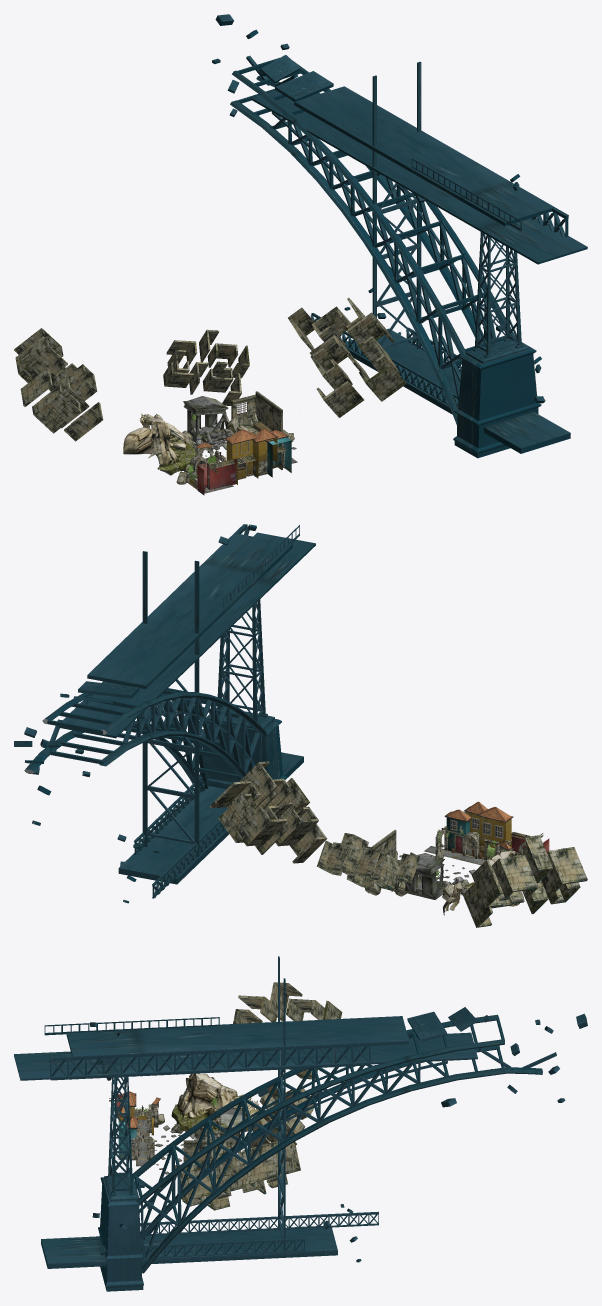
The model's file is SC05_A_LAB_v16.fbx.
The picture shows the model from 3 angles, top to bottom: view 1: azimuth 30°, elevation 25°; view 2: azimuth 150°, elevation 25°; view 3: azimuth 270°, elevation 25°; orthographic projection. The views are drawn at different scales.
Parts seen in each view (by area): view 1: Cube.078, Cube.081, Cube.082, Cube.077, Cave Rock Mountain2.001, Plane.024, Plane.027, Plane.012, Plane.002, Cube.234; view 2: Cube.078, Cube.081, Cube.082, Cube.077, Plane.012, Cave Rock Mountain2.001; view 3: Cube.078, Cube.081, Cube.082, Cave Rock Mountain2.001, Cube.077.
Boxes of the visible parts, x1,y1,x2,y2 form: Cube.078: [212, 14, 587, 458]; Cube.081: [288, 297, 406, 417]; Cube.082: [14, 328, 103, 441]; Cube.077: [163, 329, 249, 405]; Cave Rock Mountain2.001: [123, 413, 196, 475]; Plane.024: [197, 458, 237, 495]; Plane.027: [255, 391, 282, 431]; Plane.012: [226, 440, 258, 479]; Plane.002: [267, 437, 291, 477]; Cube.234: [183, 396, 228, 414]; Cube.078: [14, 524, 315, 903]; Cube.081: [209, 761, 327, 863]; Cube.082: [463, 835, 587, 927]; Cube.077: [316, 833, 420, 889]; Plane.012: [479, 816, 511, 857]; Cave Rock Mountain2.001: [442, 851, 521, 915]; Cube.078: [14, 956, 587, 1291]; Cube.081: [175, 1135, 300, 1210]; Cube.082: [233, 982, 342, 1079]; Cave Rock Mountain2.001: [171, 1073, 258, 1134]; Cube.077: [251, 1085, 313, 1147].
Size of what is drawn, in the model's own units: 5705 by 3811 by 6624.
